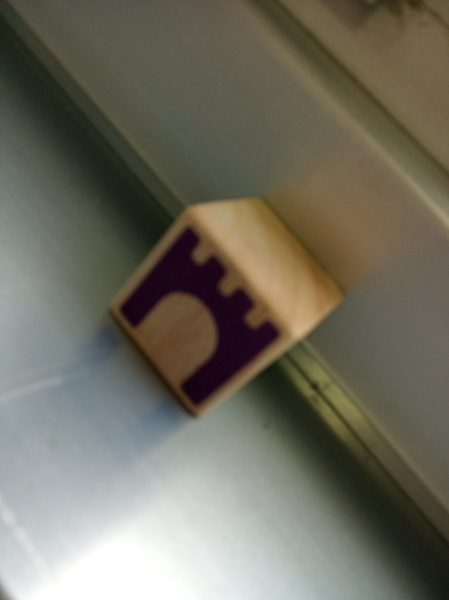violet: (121, 220, 293, 409)
